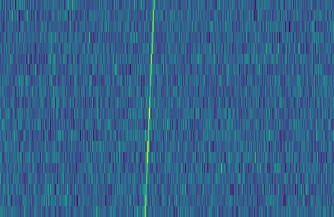signal: (140, 0, 158, 217)
